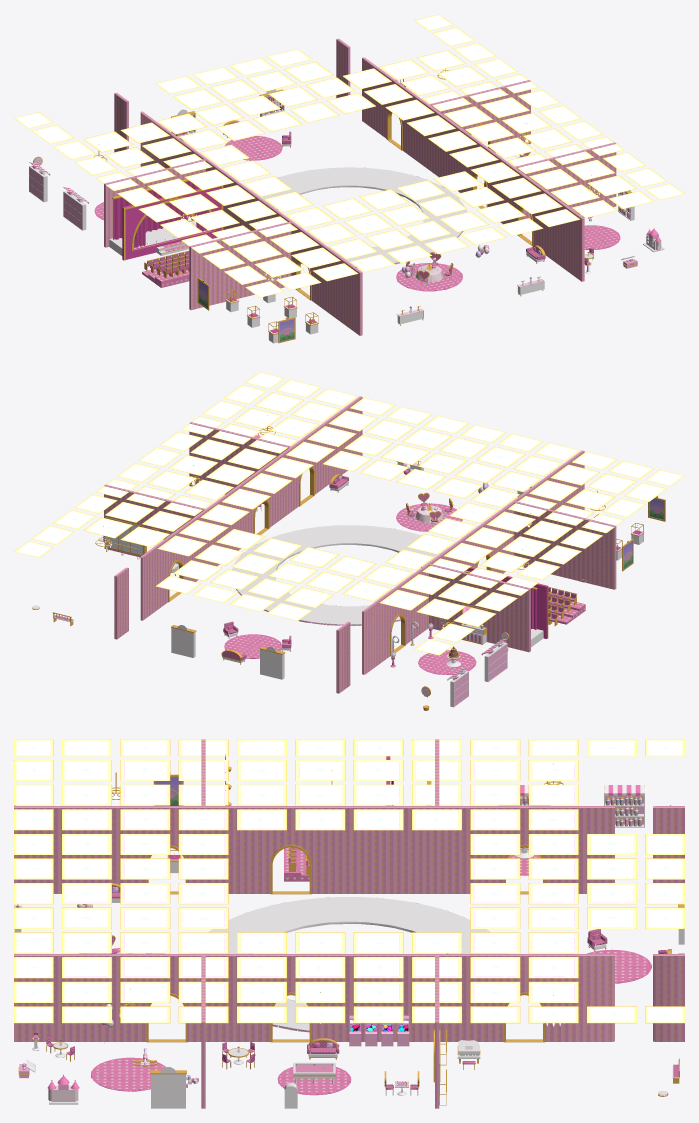
The model's file is citadel_floor3.glb.
The picture shows the model from 3 angles, top to bottom: view 1: azimuth 30°, elevation 25°; view 2: azimuth 150°, elevation 25°; view 3: azimuth 270°, elevation 25°; orthographic projection. The views are drawn at different scales.
Parts seen in each view (by area): view 1: floor3_sky_cards, floor3_wallpaper, floor3_white_wood, floor3_gold, floor3_carpet, floor3_velvet, floor3_satin_pink, floor3_tufted, floor3_satin_rose, floor3_satin_blush; view 2: floor3_sky_cards, floor3_wallpaper, floor3_white_wood, floor3_gold, floor3_carpet, floor3_tufted, floor3_satin_pink, floor3_velvet, floor3_satin_rose, floor3_satin_white; view 3: floor3_sky_cards, floor3_wallpaper, floor3_white_wood, floor3_carpet, floor3_gold, floor3_satin_pink, floor3_tufted, floor3_satin_rose, floor3_satin_white, floor3_candy_fill.
Boxes of the visible parts, x1=… form: floor3_sky_cards: x1=14, y1=14, x2=684, y2=297; floor3_wallpaper: x1=104, y1=38, x2=616, y2=335; floor3_white_wood: x1=29, y1=79, x2=664, y2=343; floor3_gold: x1=33, y1=69, x2=658, y2=343; floor3_carpet: x1=96, y1=136, x2=618, y2=290; floor3_velvet: x1=113, y1=96, x2=629, y2=332; floor3_satin_pink: x1=29, y1=102, x2=658, y2=272; floor3_tufted: x1=146, y1=83, x2=593, y2=281; floor3_satin_rose: x1=30, y1=96, x2=661, y2=313; floor3_satin_blush: x1=178, y1=96, x2=661, y2=282; floor3_sky_cards: x1=14, y1=372, x2=684, y2=655; floor3_wallpaper: x1=104, y1=396, x2=616, y2=693; floor3_white_wood: x1=32, y1=462, x2=643, y2=707; floor3_gold: x1=32, y1=415, x2=665, y2=710; floor3_carpet: x1=225, y1=504, x2=585, y2=674; floor3_tufted: x1=54, y1=475, x2=576, y2=660; floor3_satin_pink: x1=33, y1=437, x2=507, y2=705; floor3_velvet: x1=466, y1=530, x2=642, y2=638; floor3_satin_rose: x1=224, y1=434, x2=505, y2=679; floor3_satin_white: x1=392, y1=464, x2=507, y2=695; floor3_sky_cards: x1=14, y1=739, x2=684, y2=1023; floor3_wallpaper: x1=14, y1=739, x2=684, y2=1108; floor3_white_wood: x1=14, y1=794, x2=684, y2=1108; floor3_carpet: x1=93, y1=847, x2=649, y2=1094; floor3_gold: x1=14, y1=754, x2=684, y2=1105; floor3_satin_pink: x1=19, y1=794, x2=670, y2=1095; floor3_tufted: x1=46, y1=847, x2=678, y2=1089; floor3_satin_rose: x1=22, y1=785, x2=667, y2=1095; floor3_satin_white: x1=26, y1=785, x2=644, y2=1086; floor3_candy_fill: x1=520, y1=798, x2=642, y2=826.
Size of what is drawn, in the model's own units: 46 by 6.57 by 46.
Materials: 41 (13 with a texture image).
